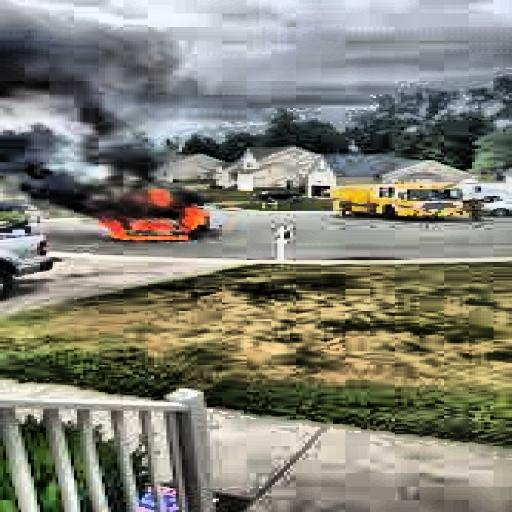fire: (80, 186, 225, 250)
